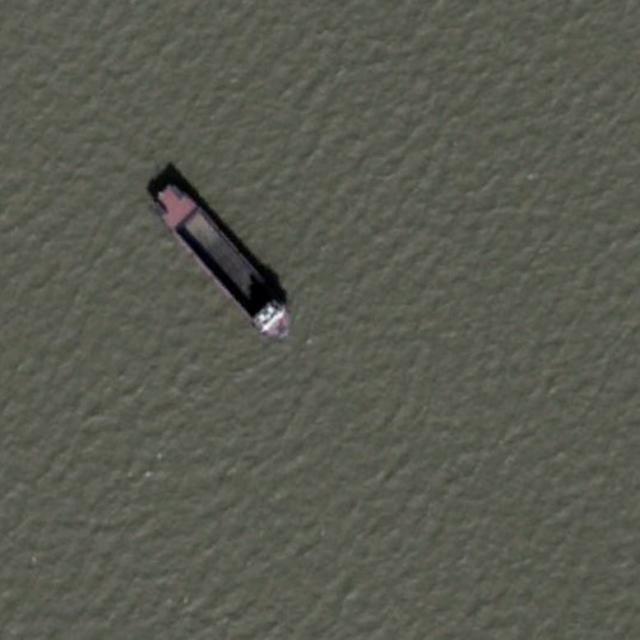ship: (144, 164, 294, 340)
